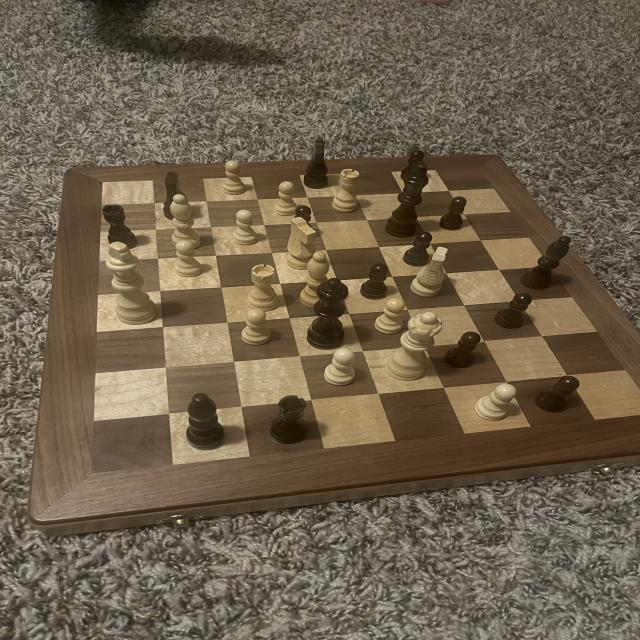bishop: (519, 234, 575, 292), (182, 389, 229, 454)
black-bishop: (383, 159, 432, 243)
black-king: (300, 134, 337, 192), (155, 170, 193, 220)
black-knight: (530, 373, 585, 416), (489, 288, 536, 332), (444, 330, 483, 369), (358, 261, 393, 303), (400, 230, 434, 269), (437, 193, 470, 233), (397, 149, 427, 183), (290, 202, 318, 234)
black-pawn: (304, 276, 352, 351)
black-queen: (268, 394, 313, 447), (100, 202, 140, 255)
black-rook: (167, 192, 206, 253), (296, 249, 332, 311)
white-bishop: (102, 238, 160, 326)
white-king: (404, 243, 454, 299), (282, 215, 320, 272)
white-knight: (471, 383, 521, 424), (170, 240, 208, 280), (322, 346, 360, 386), (238, 306, 273, 347), (228, 206, 262, 248), (373, 296, 408, 335), (219, 157, 249, 199), (273, 177, 300, 218)
white-pawn: (381, 311, 446, 384)
white-queen: (244, 262, 283, 314), (331, 167, 366, 214)
